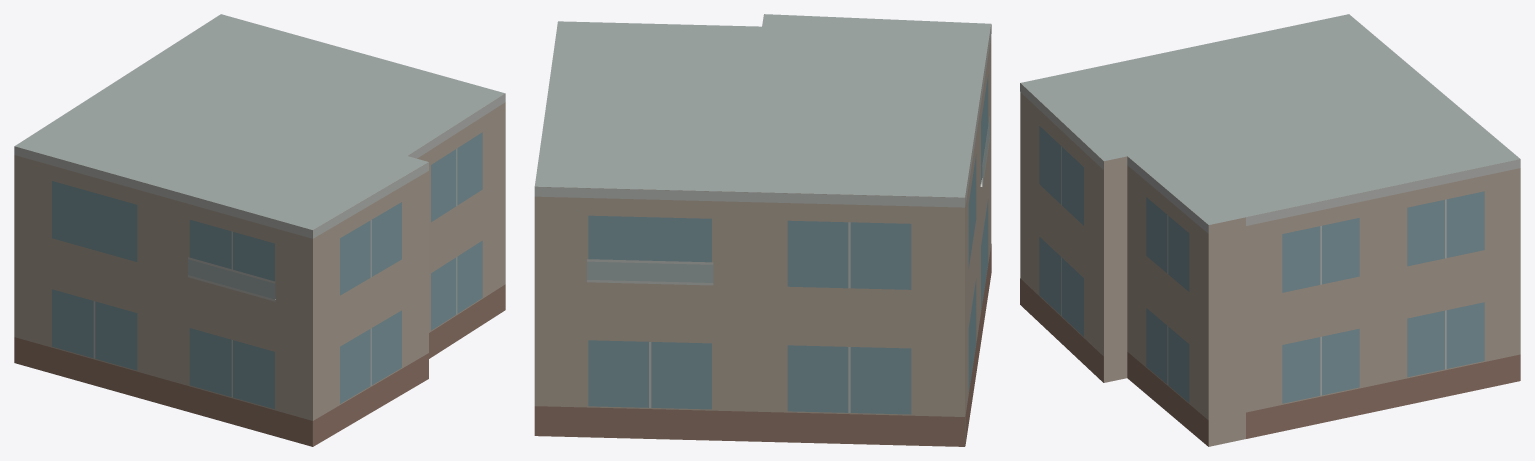
File: survey-upis-32947639.glb
3 renders of one model, left to right at view 1: azimuth 30°, elevation 25°; view 2: azimuth 150°, elevation 25°; view 3: azimuth 270°, elevation 25°, orthographic. The views are drawn at different scales.
Parts seen in each view (by area): view 1: survey-upis-32947639.tmp; view 2: survey-upis-32947639.tmp; view 3: survey-upis-32947639.tmp.
Boxes of the visible parts, x1=… form: survey-upis-32947639.tmp: x1=14, y1=14, x2=505, y2=446; survey-upis-32947639.tmp: x1=534, y1=14, x2=991, y2=446; survey-upis-32947639.tmp: x1=1020, y1=14, x2=1520, y2=446.
Bounding box in the file's own units: 12.46 × 6.1 × 12.48.
